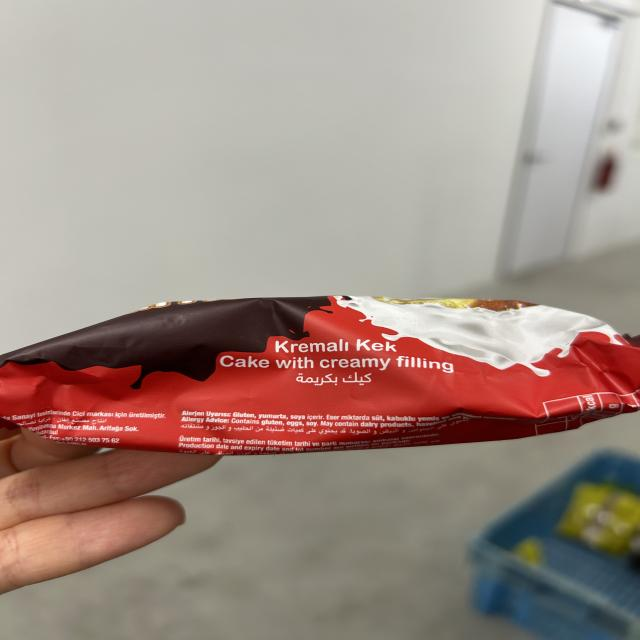object_name: (45, 313, 612, 433)
